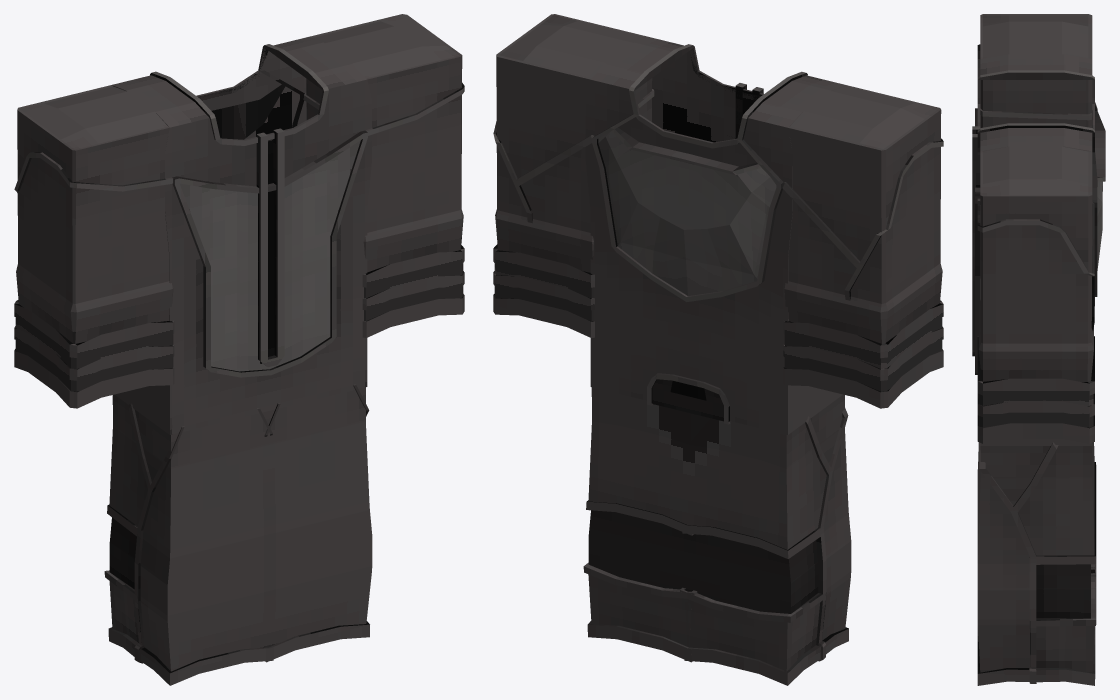
3 views of the same model, side by side, from view 1: azimuth 30°, elevation 25°; view 2: azimuth 150°, elevation 25°; view 3: azimuth 270°, elevation 25° (orthographic). The views are drawn at different scales.
Parts seen in each view (by area): view 1: body, left_arm, left_leg, right_arm, right_leg; view 2: body, left_arm, left_leg, right_arm, right_leg; view 3: right_arm, right_leg, body, left_arm, left_leg.
Part boxes in pixels (x1=…): body: x1=112, y1=37, x2=371, y2=434; left_arm: x1=14, y1=85, x2=174, y2=408; left_leg: x1=104, y1=394, x2=275, y2=685; right_arm: x1=303, y1=14, x2=464, y2=337; right_leg: x1=264, y1=384, x2=372, y2=662; body: x1=585, y1=37, x2=845, y2=434; left_arm: x1=782, y1=85, x2=943, y2=408; left_leg: x1=680, y1=394, x2=851, y2=685; right_arm: x1=493, y1=14, x2=654, y2=337; right_leg: x1=583, y1=387, x2=697, y2=662; right_arm: x1=977, y1=144, x2=1094, y2=443; right_leg: x1=977, y1=442, x2=1096, y2=685; body: x1=972, y1=54, x2=1105, y2=445; left_arm: x1=977, y1=14, x2=1094, y2=305; left_leg: x1=977, y1=442, x2=1096, y2=626.
Size of the model in its own units: 1.02 by 1.4 by 0.3121.
1 material, 1 textured.
